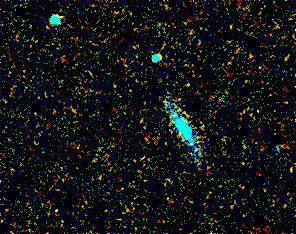star: (171, 68, 201, 98)
